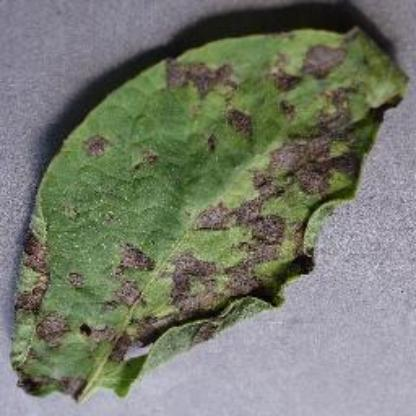Early-Blight: (11, 17, 408, 400)
